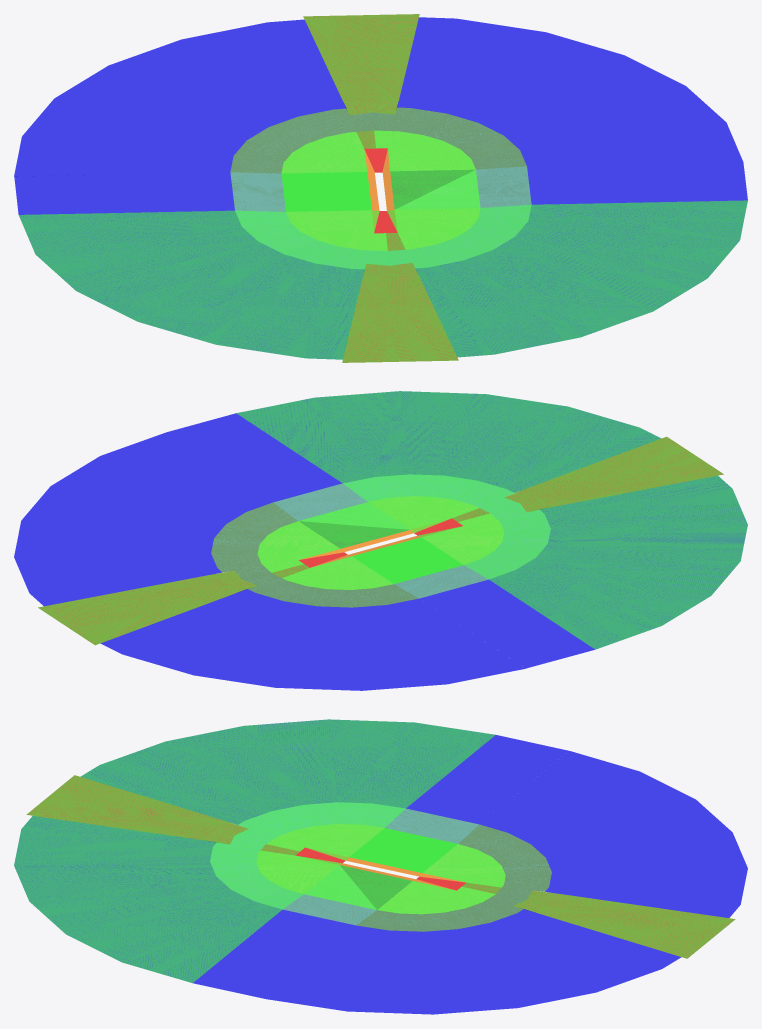
3 views of the same model, one above another, from view 1: azimuth 30°, elevation 25°; view 2: azimuth 150°, elevation 25°; view 3: azimuth 270°, elevation 25° (orthographic). The views are drawn at different scales.
Parts seen in each view (by area): view 1: SketchUp (×18); view 2: SketchUp (×18); view 3: SketchUp (×18).
Boxes of the visible parts, x1,y1,x2,y2 form: SketchUp (×18): [14, 14, 747, 362]; SketchUp (×18): [14, 391, 747, 690]; SketchUp (×18): [14, 719, 747, 1014].
Size of the model in its own units: 1246866 by 1310816 by 6041.
